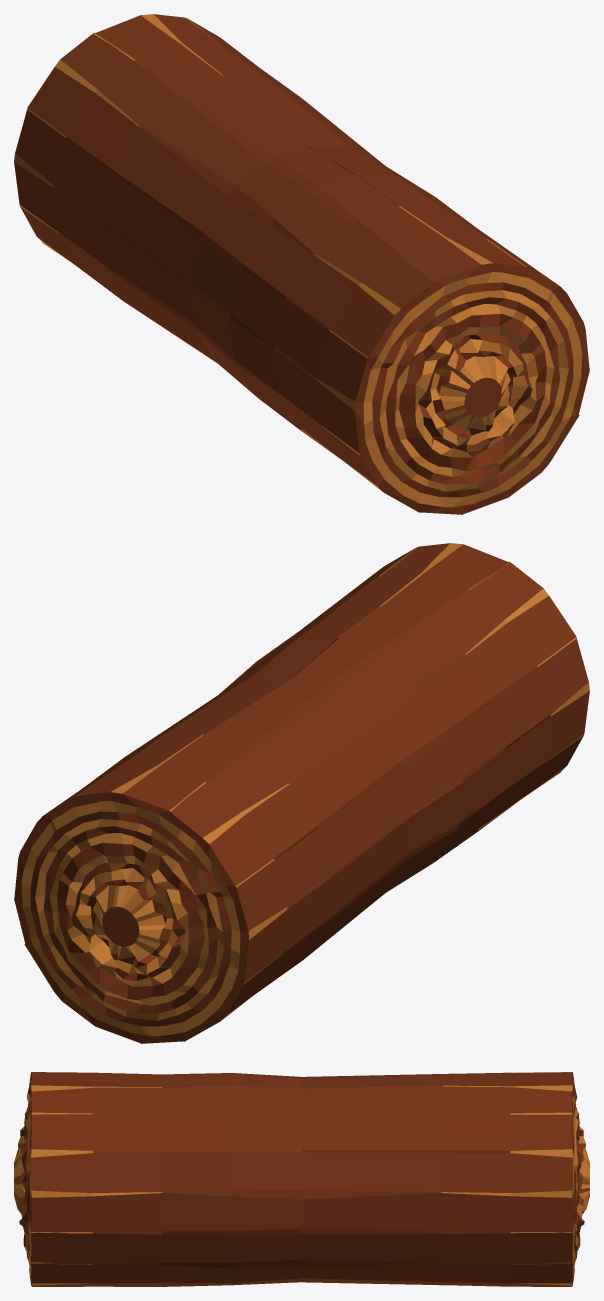
File: Buche.fbx
3 renders of one model, top to bottom at view 1: azimuth 30°, elevation 25°; view 2: azimuth 150°, elevation 25°; view 3: azimuth 270°, elevation 25°, orthographic. The views are drawn at different scales.
Parts seen in each view (by area): view 1: Cylinder; view 2: Cylinder; view 3: Cylinder.
Boxes of the visible parts, bbox=[...] form: Cylinder: bbox=[14, 14, 589, 514]; Cylinder: bbox=[14, 543, 589, 1043]; Cylinder: bbox=[14, 1072, 589, 1286].
Bounding box in the file's own units: 79.96 × 79.89 × 213.
